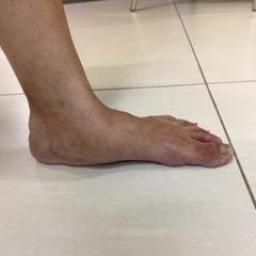Medial View -Left Foot-: (10, 63, 244, 190)
